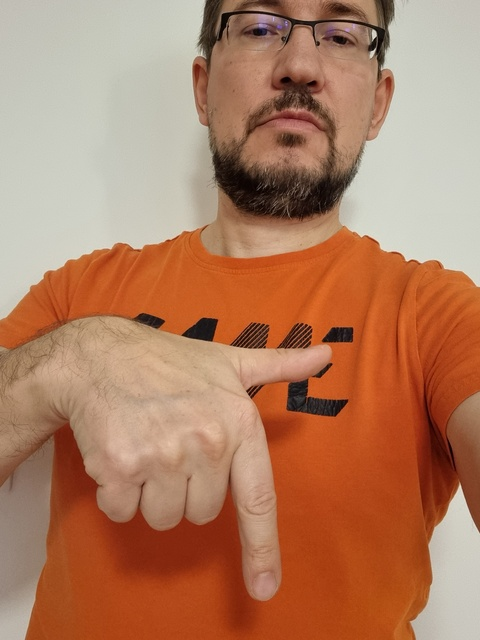GestDown: (97, 343, 332, 601)
